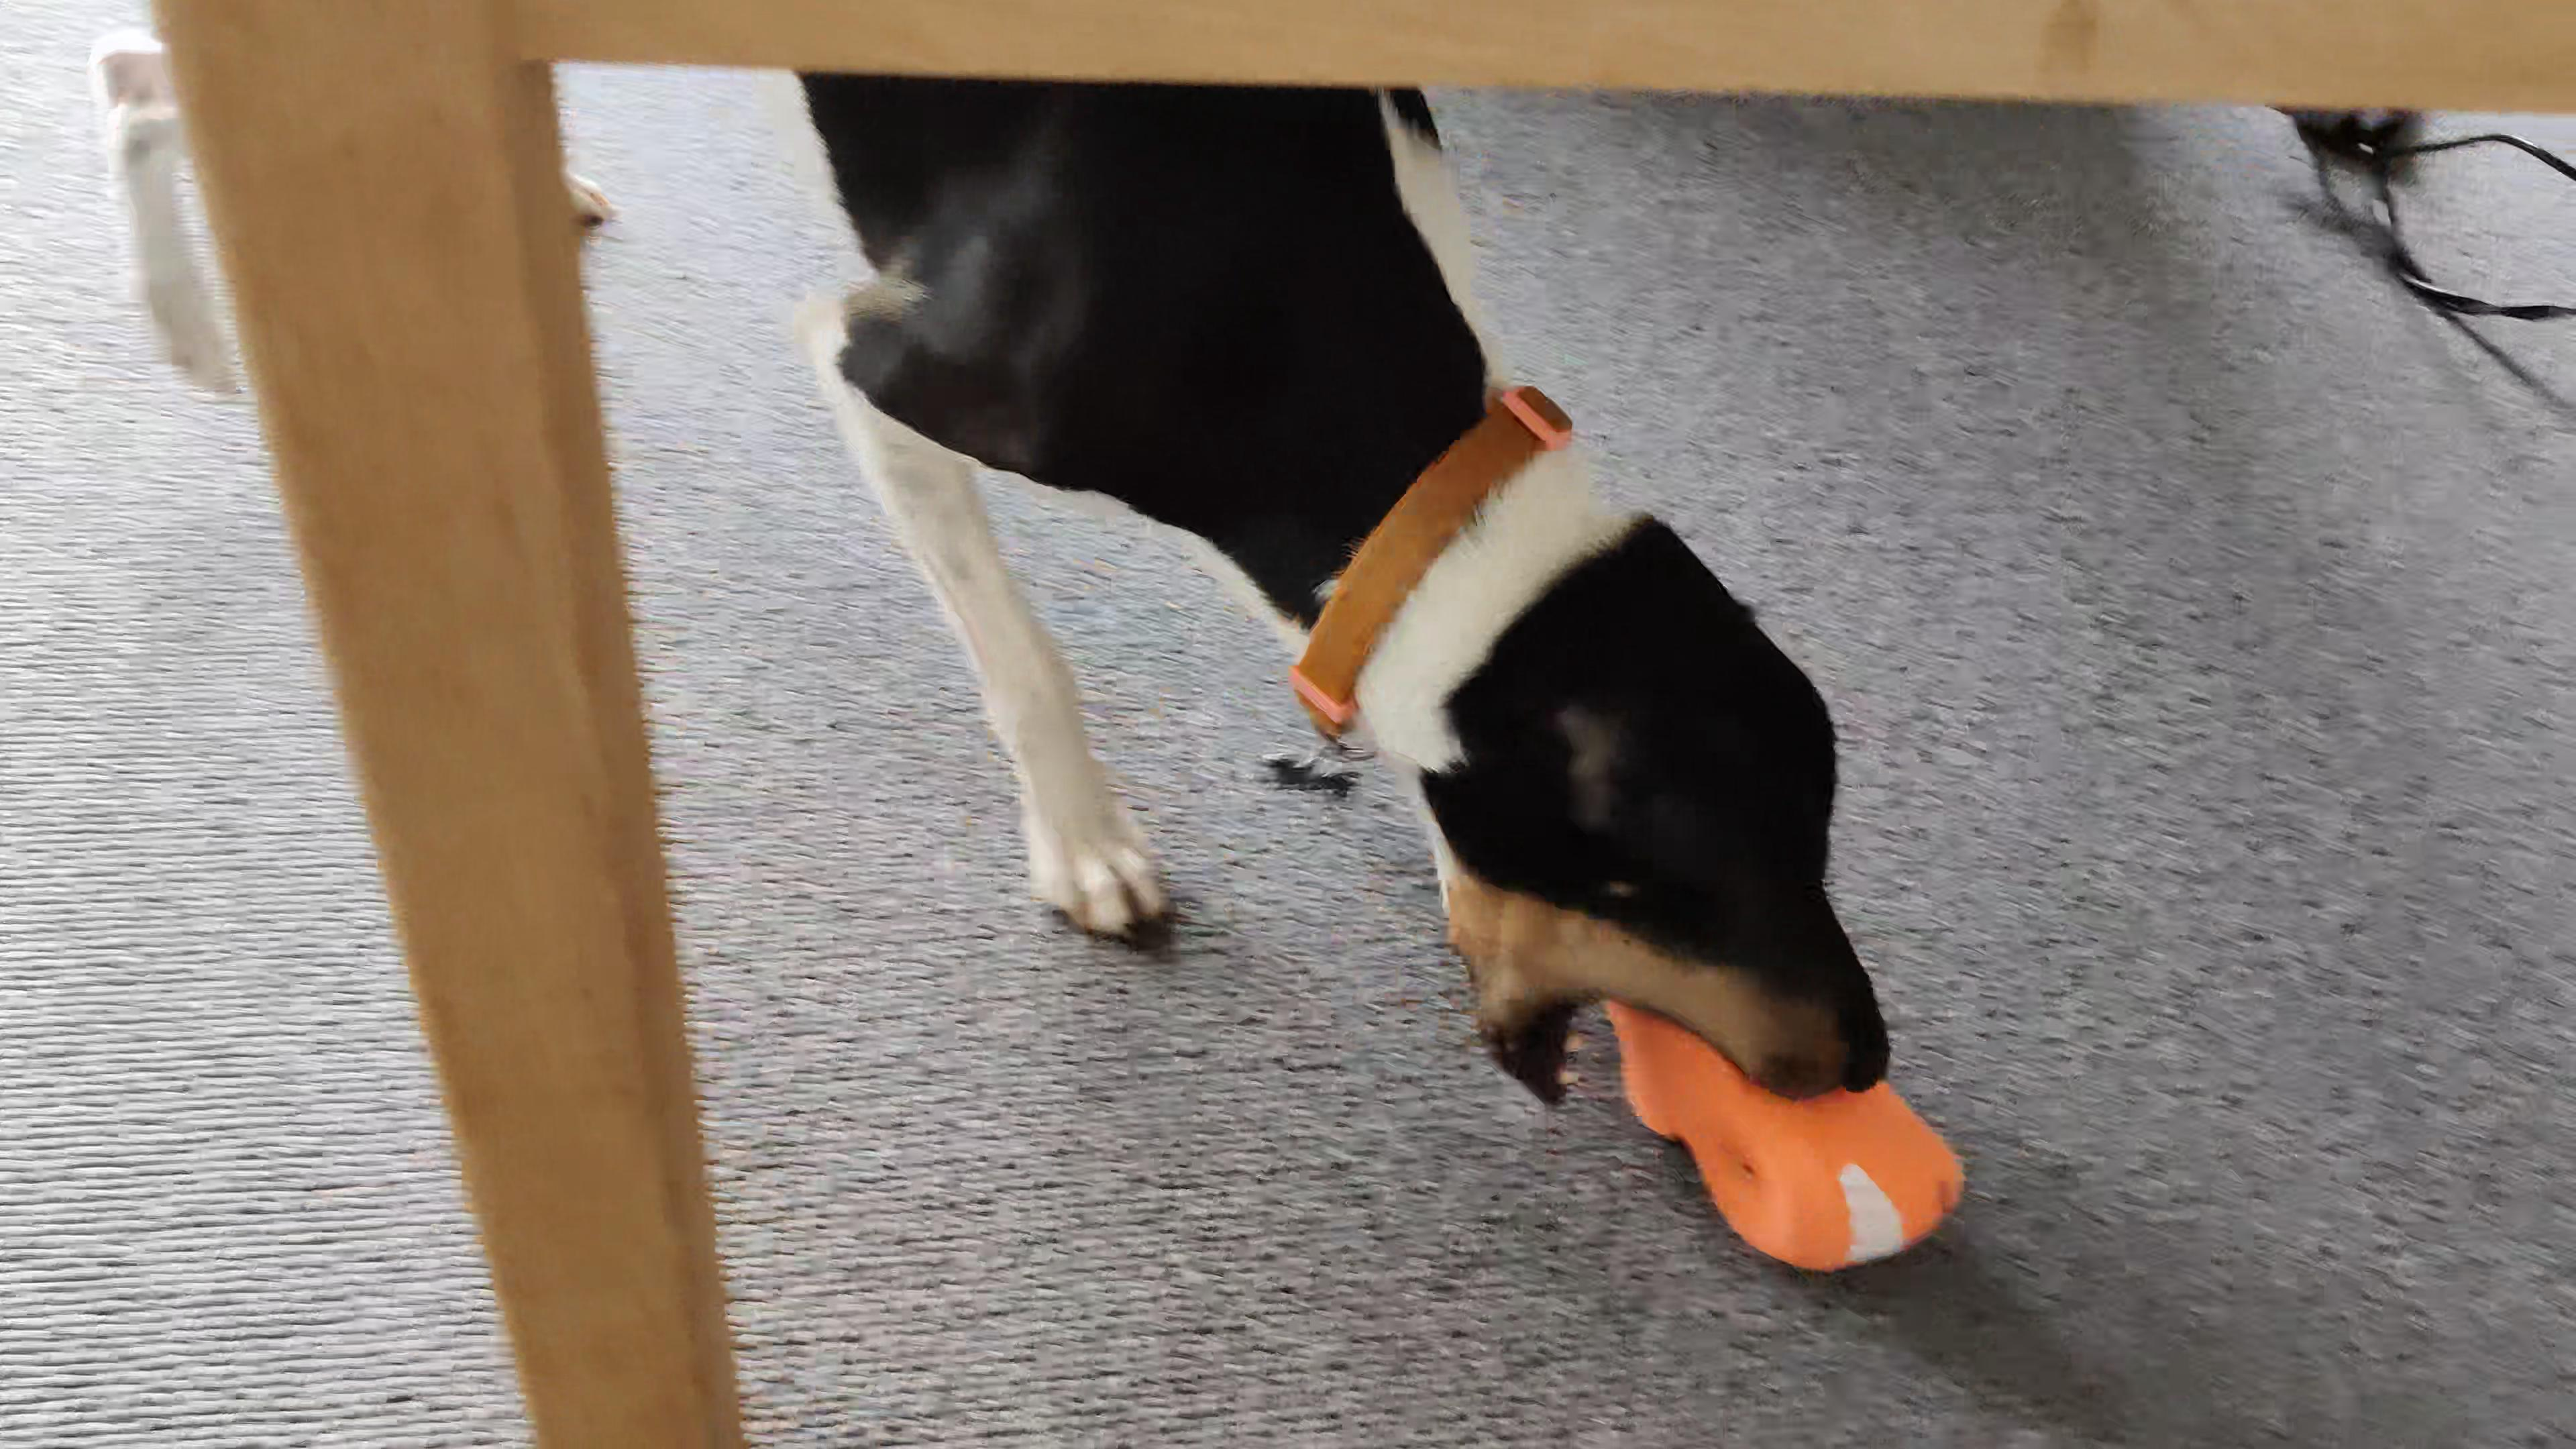Dog: (83, 27, 1909, 1123)
